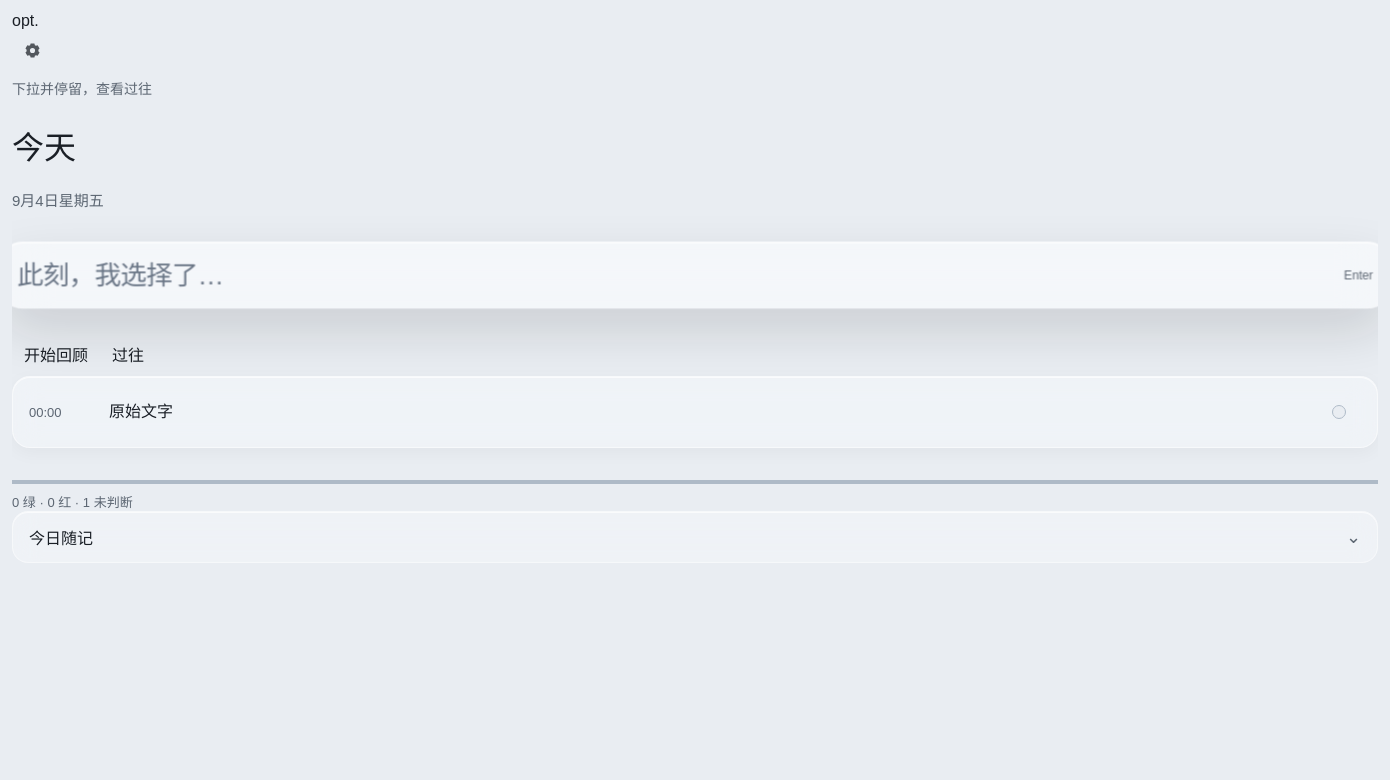
Test: TodayPage › restores row focus after keyboard editing and closes an empty edit on blur
Step 1. Right-click the element showing "00:00 原始文字" → (695, 412), box [12,376,1378,448]
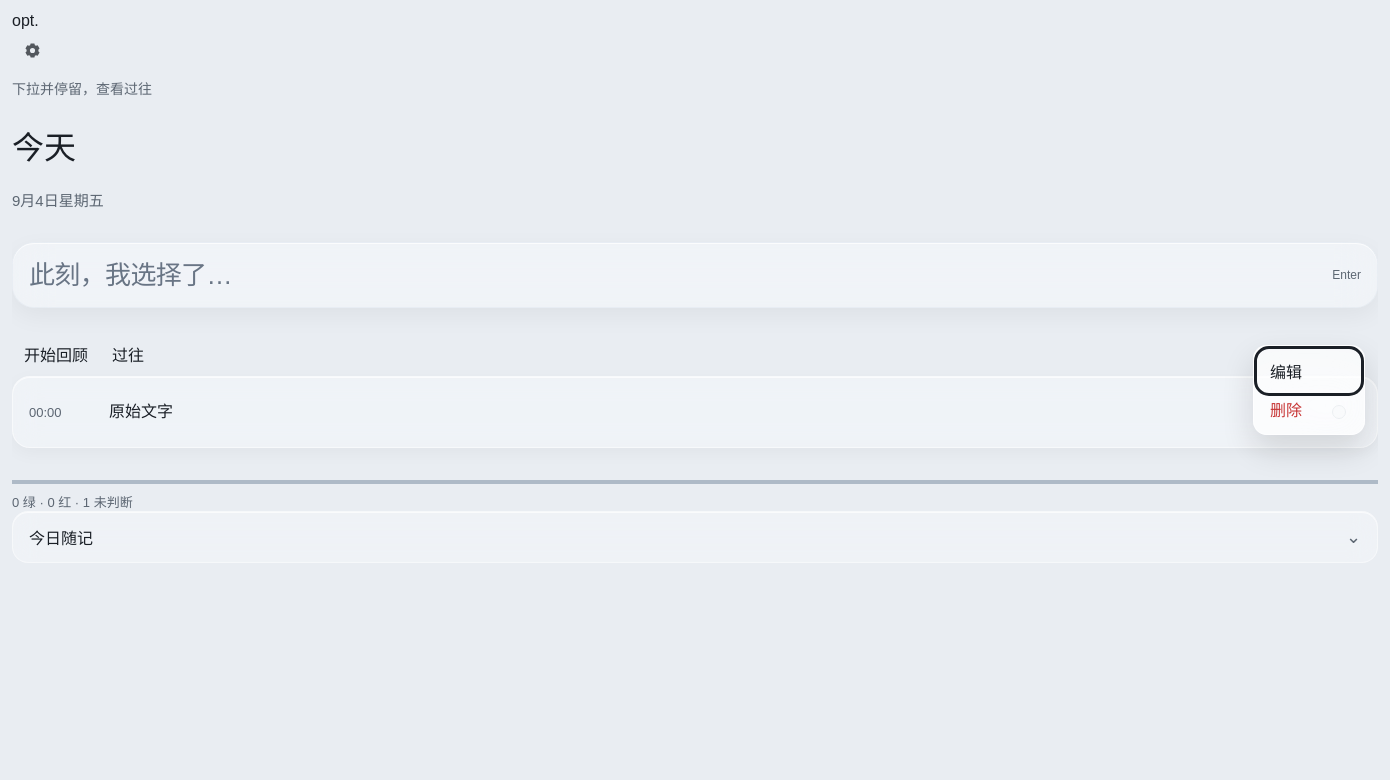
Step 2. Click the menu item "编辑" → (1309, 371), box [1260,352,1358,390]
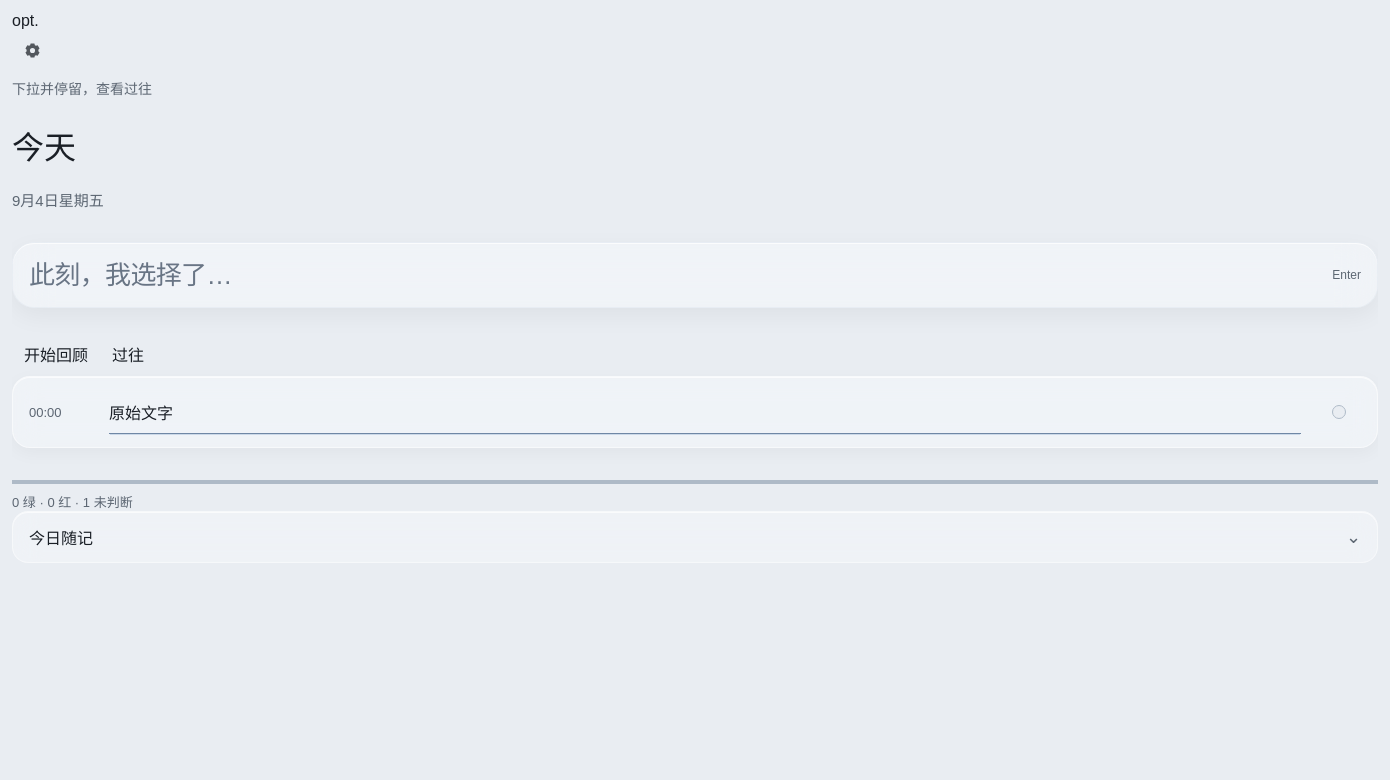
Step 3. Replace the text in the field named "编辑选择" with "新文字" → (705, 412), box [109,390,1301,434]
Then press Enter
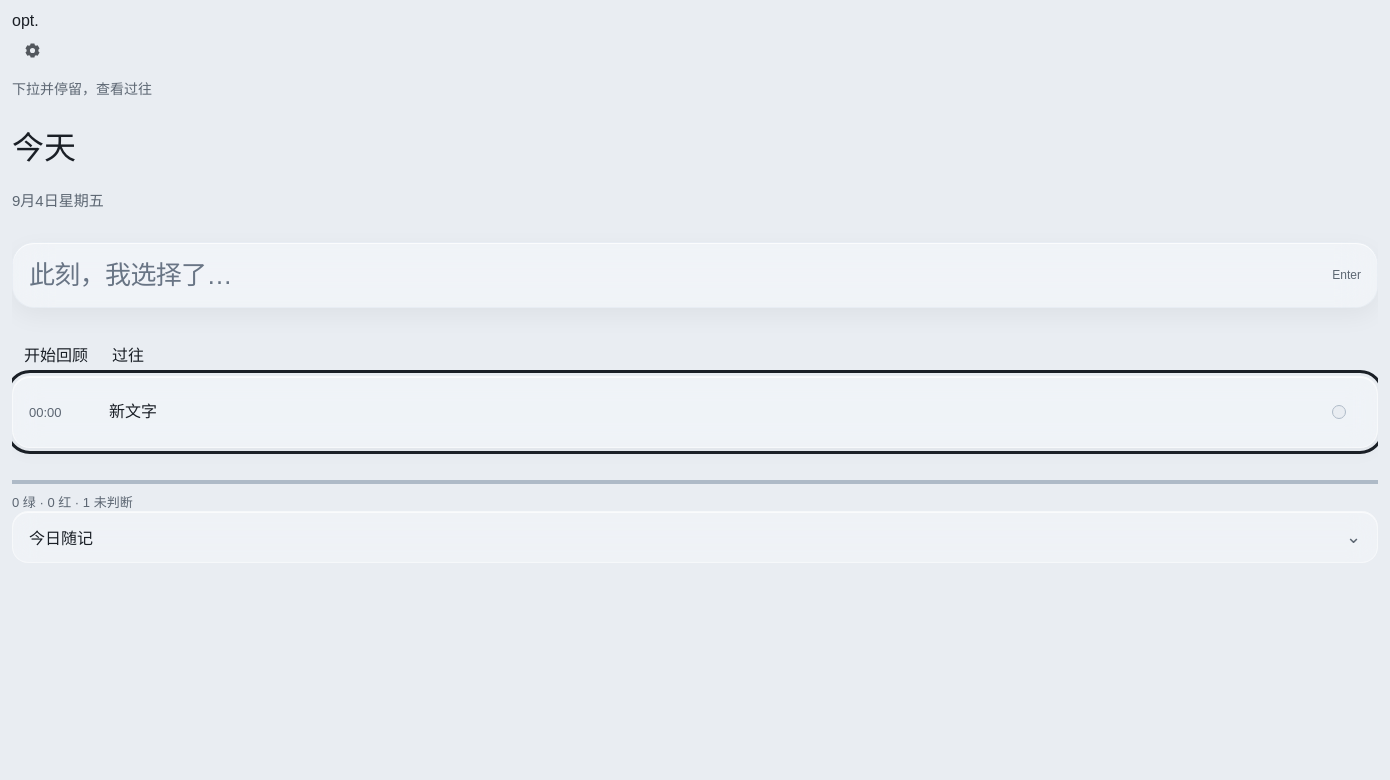
Check: the text "新文字" is shown, box [109,403,157,420]
Step 4. Right-click the element showing "00:00 新文字" → (695, 412), box [12,376,1378,448]
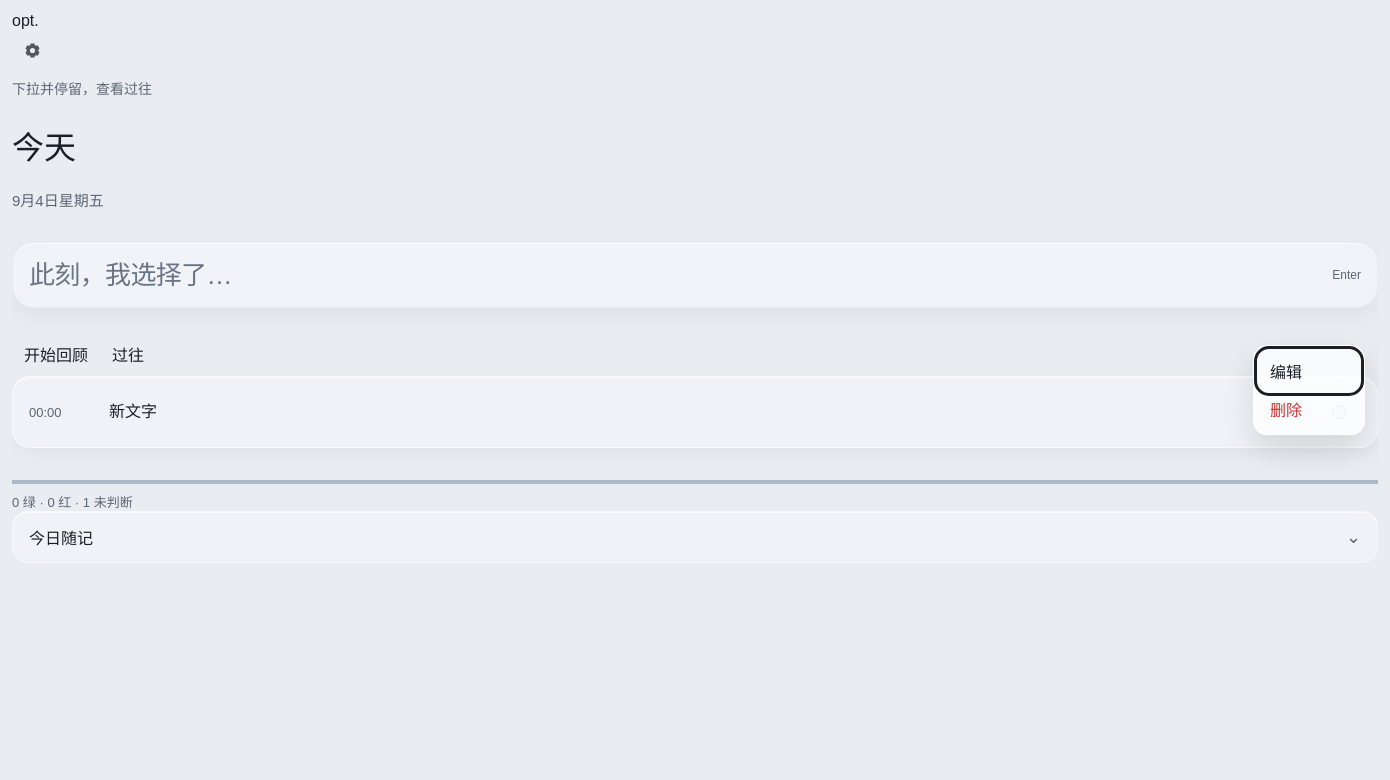
Step 5. Click the menu item "编辑" → (1309, 371), box [1260,352,1358,390]
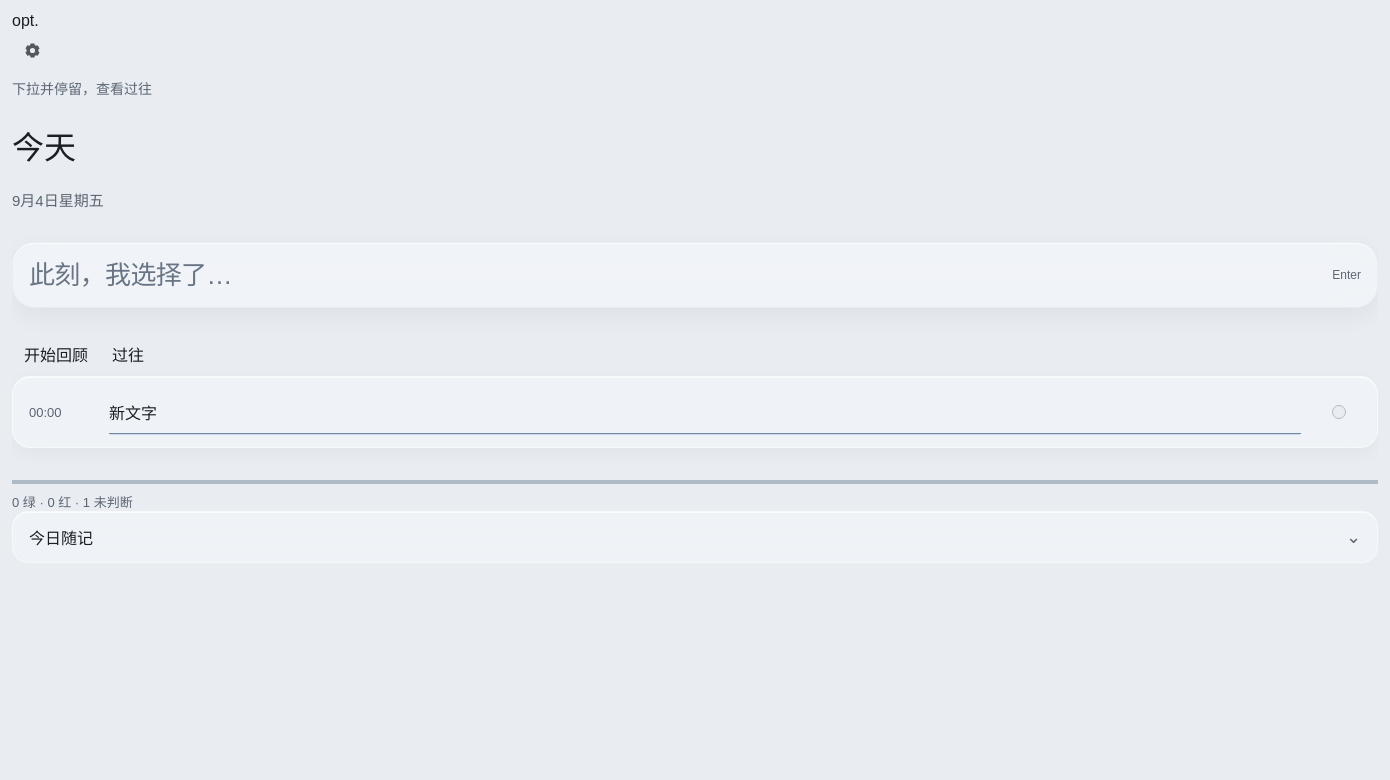
Step 6. Clear the field named "编辑选择" → (705, 412), box [109,390,1301,434]
Step 7. Leave the field named "编辑选择", box [109,390,1301,434]
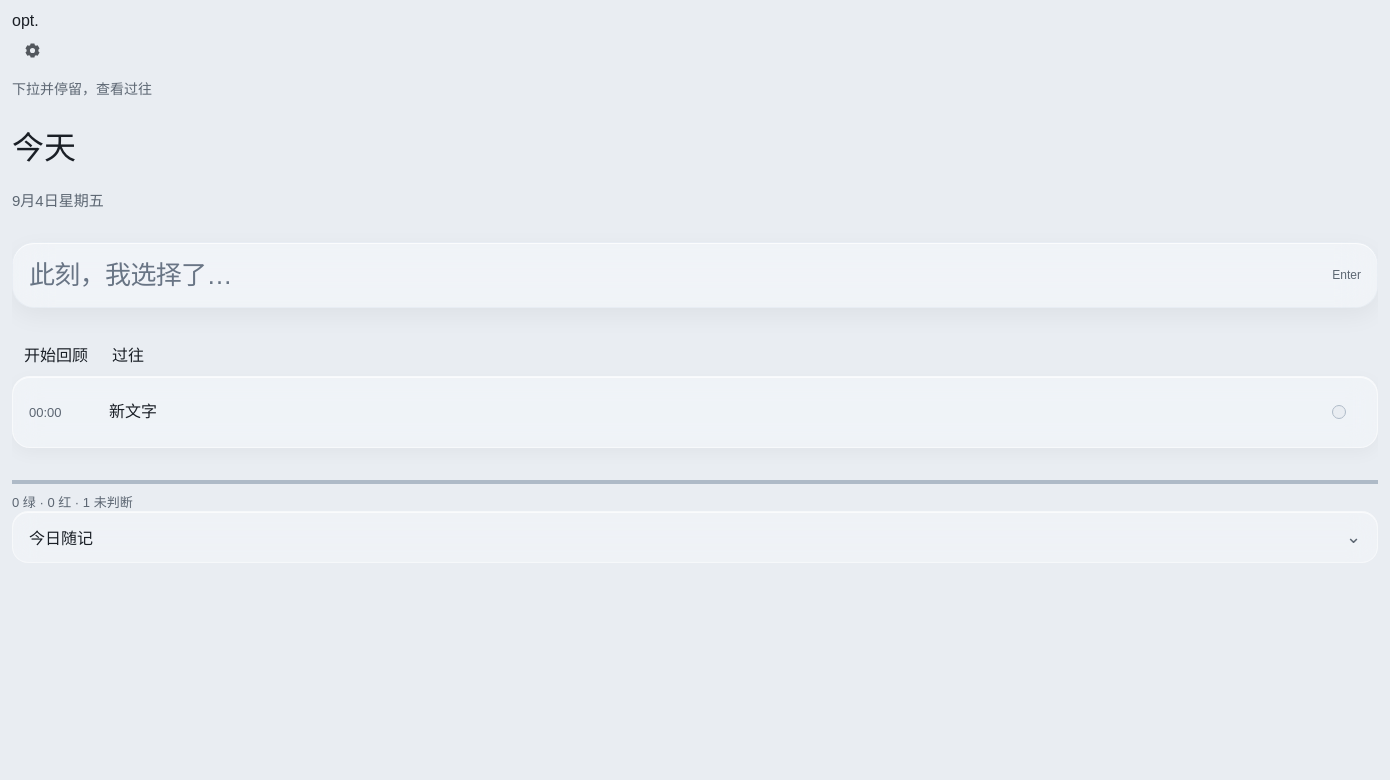
Check: the field labelled "编辑选择" is gone
Check: the text "新文字" is shown, box [109,403,157,420]
